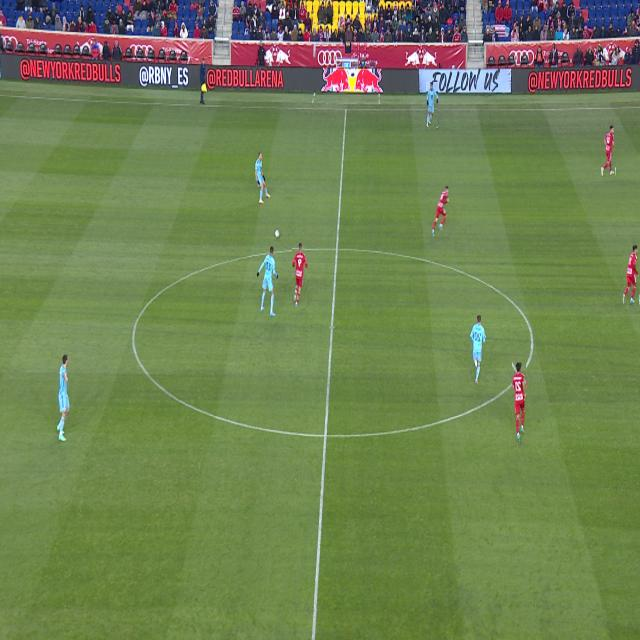football: (275, 229, 280, 237)
player: (257, 246, 278, 316), (57, 354, 70, 441), (513, 363, 526, 442), (623, 246, 640, 304), (471, 316, 485, 385), (293, 244, 307, 308), (432, 186, 449, 236), (255, 152, 271, 203), (602, 125, 615, 177), (427, 83, 438, 127)
